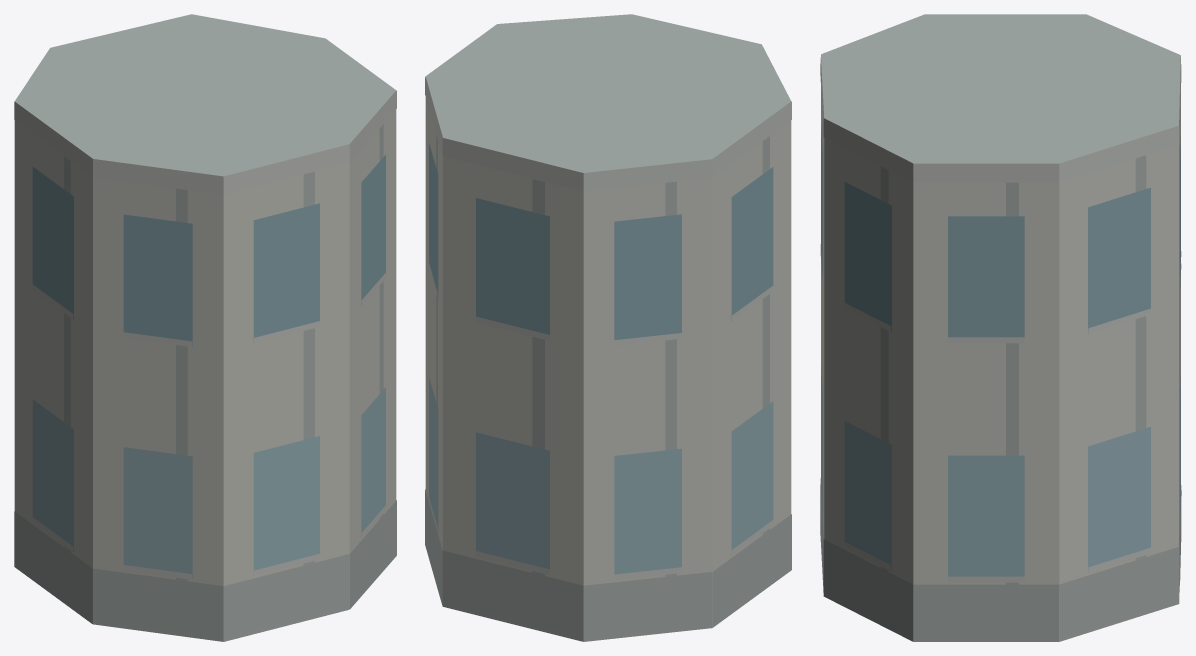
File: survey-upis-33006312.glb
3 views of the same model, side by side, from view 1: azimuth 30°, elevation 25°; view 2: azimuth 150°, elevation 25°; view 3: azimuth 270°, elevation 25° (orthographic). The views are drawn at different scales.
Parts seen in each view (by area): view 1: survey-upis-33006312.tmp; view 2: survey-upis-33006312.tmp; view 3: survey-upis-33006312.tmp.
Boxes of the visible parts, x1=… form: survey-upis-33006312.tmp: x1=14, y1=14, x2=396, y2=641; survey-upis-33006312.tmp: x1=425, y1=14, x2=791, y2=641; survey-upis-33006312.tmp: x1=820, y1=14, x2=1181, y2=641.
Bounding box in the file's own units: 4.11 × 6.1 × 4.18.
